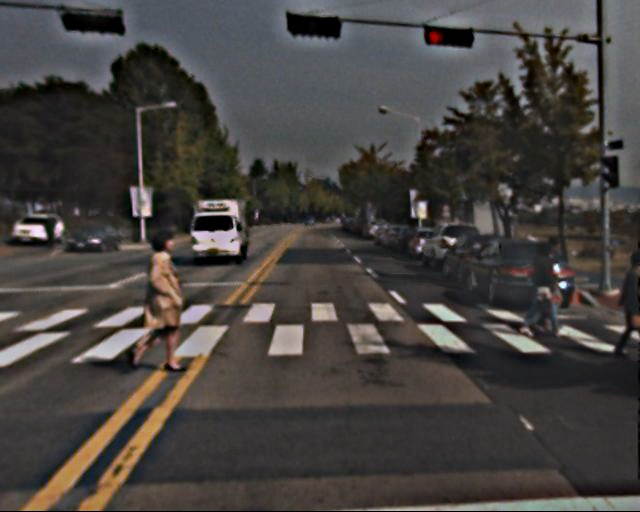person: (136, 231, 193, 370), (524, 244, 563, 339), (614, 250, 640, 358), (46, 216, 57, 244)
